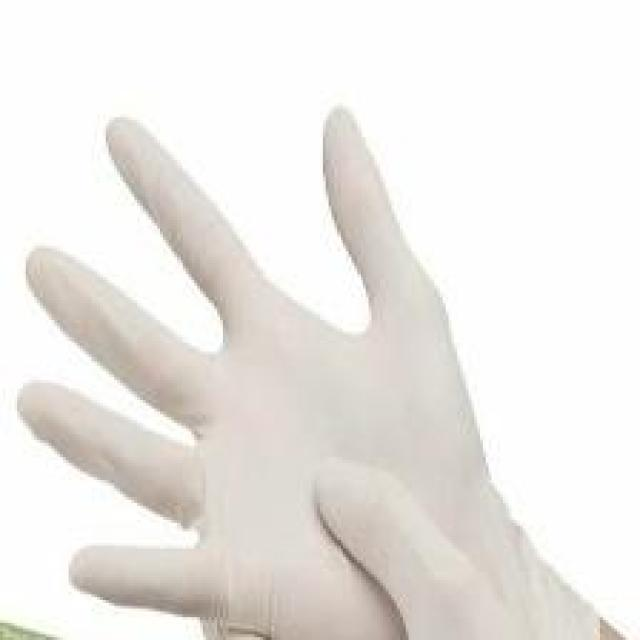Glove: (14, 112, 617, 640)
